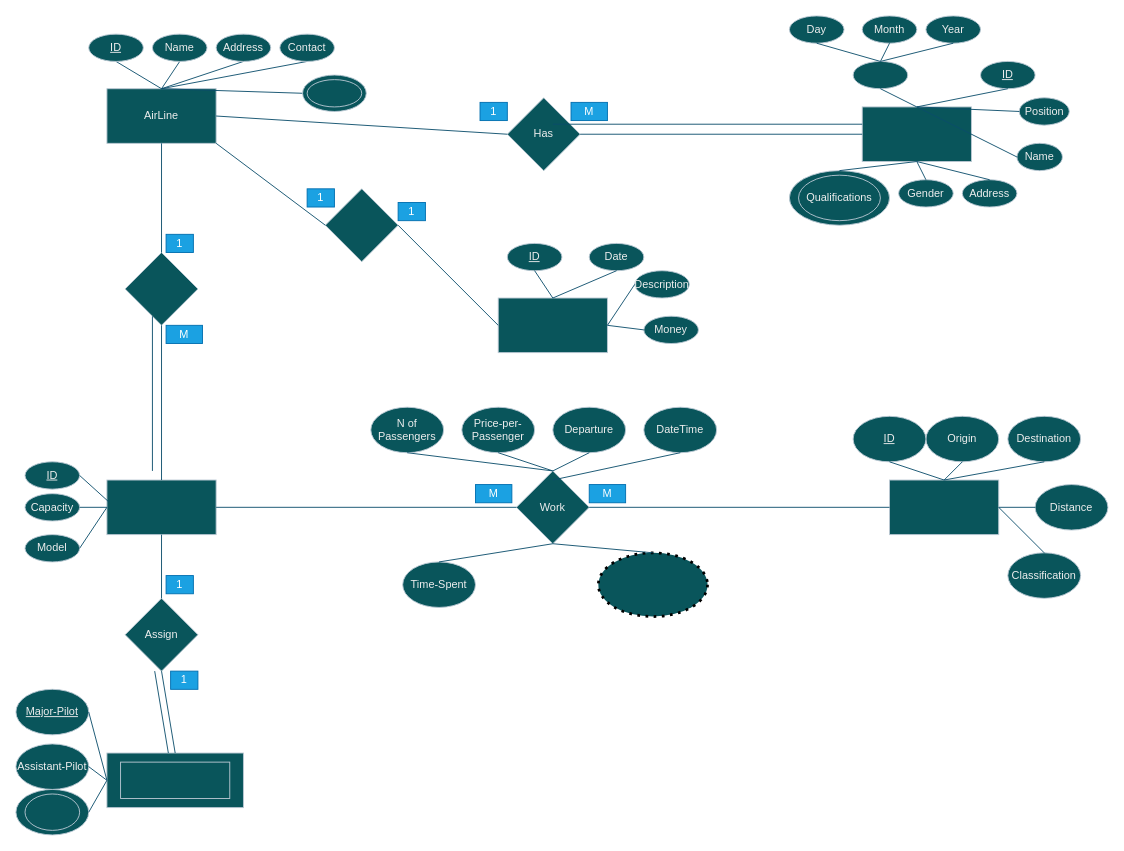
Some shapes in this 1124 by 851 pixel diagram are drawn without their labels. The shapes that lost their labels are listed below. From the top down, each one's box as (x1, y1, x2, y2) in pixels, then its label:
(306, 79, 362, 107): PN
(852, 61, 908, 89): Birth
(861, 106, 971, 162): Employee
(324, 188, 398, 262): Keep
(124, 252, 198, 325): Own
(497, 297, 607, 353): Transaction
(106, 479, 216, 535): AirCraft
(889, 479, 999, 535): Route
(597, 551, 708, 617): Arrival-Datetime
(120, 761, 230, 799): Crew
(24, 793, 80, 830): Two-Hostesses
